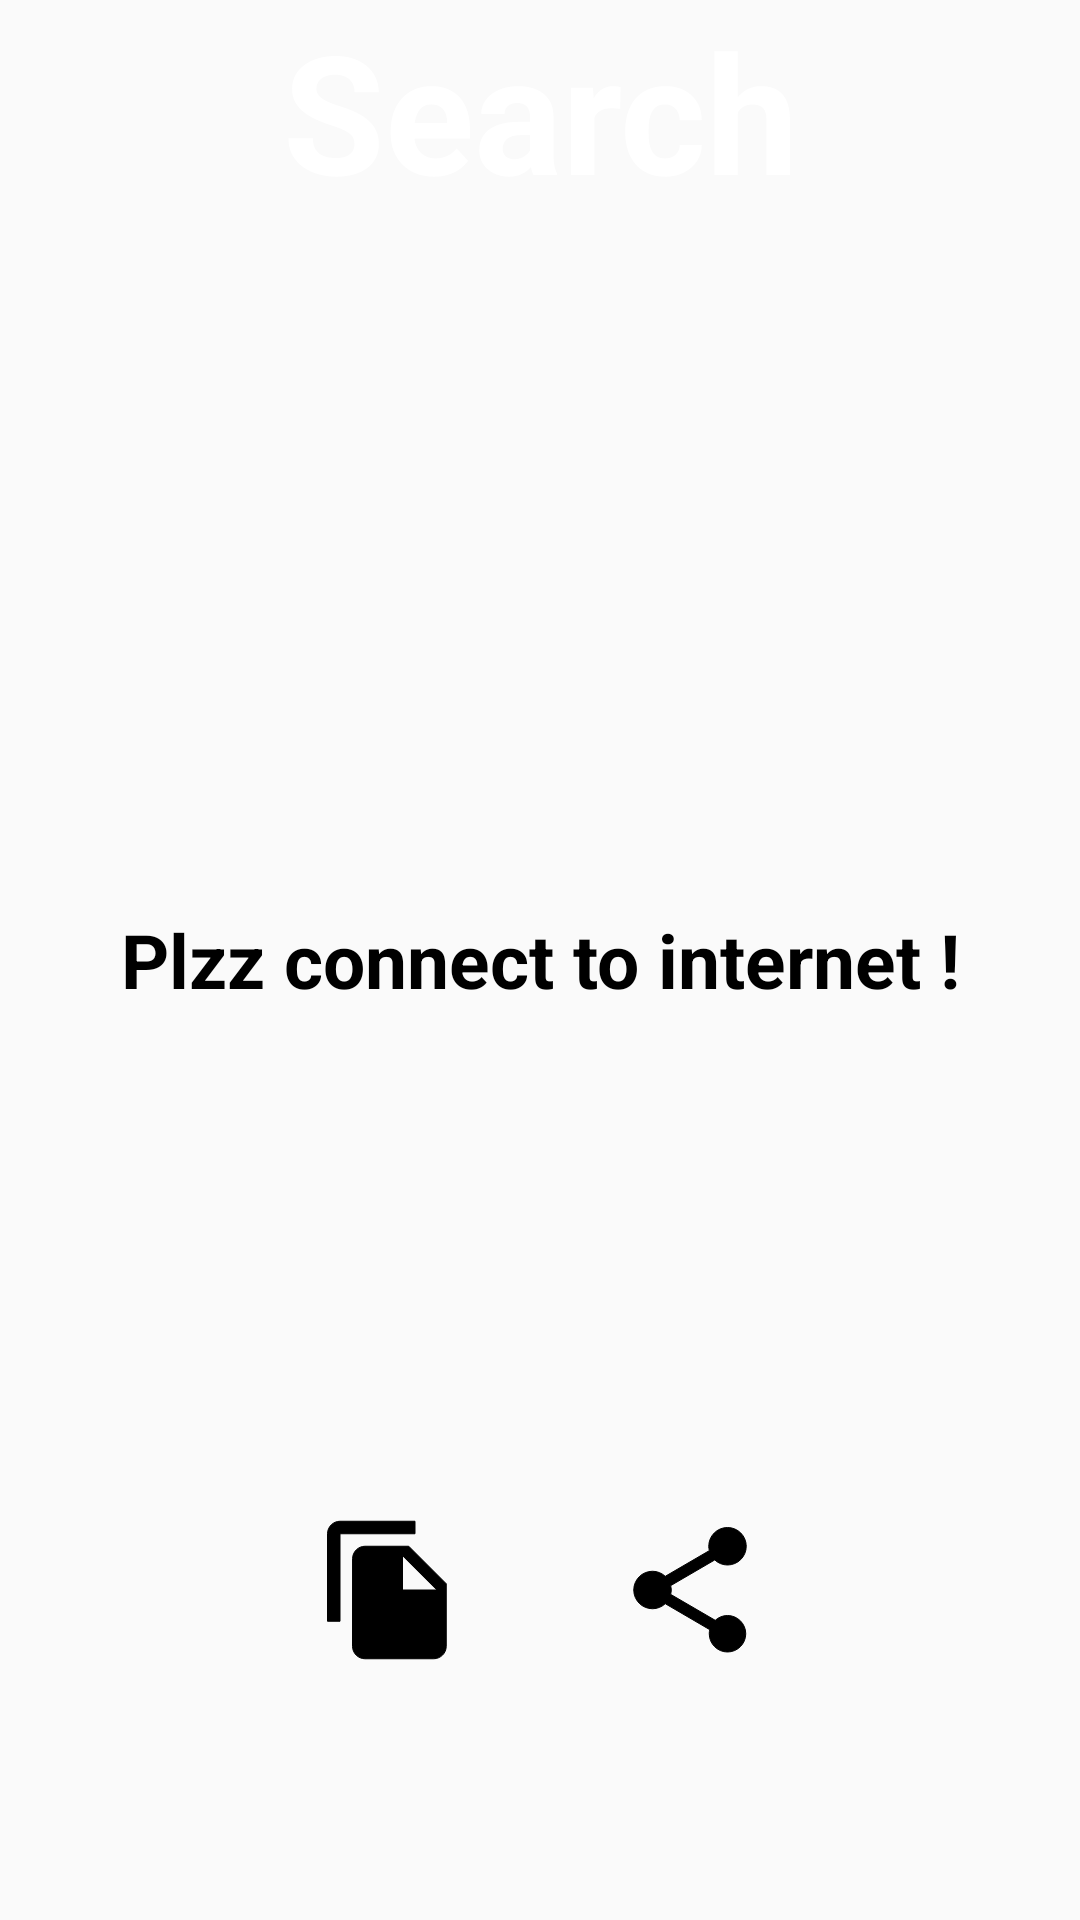

Locate icon controls on the screen. Image size 1080w x 1920h, boxes as (x1, y1, x2, y2).
file: (327, 1520, 447, 1660)
share: (633, 1527, 747, 1653)
